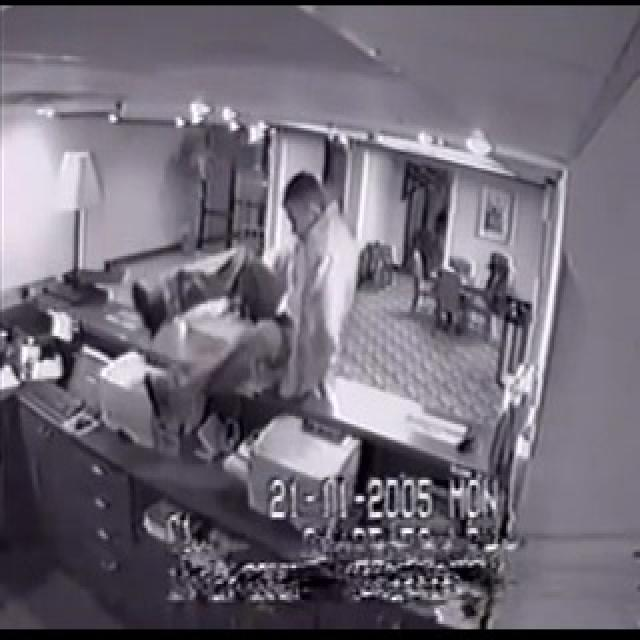thief: (118, 169, 352, 513)
